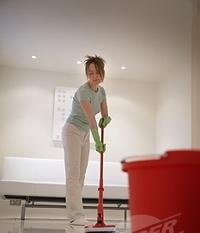person without safety: (59, 54, 114, 229)
